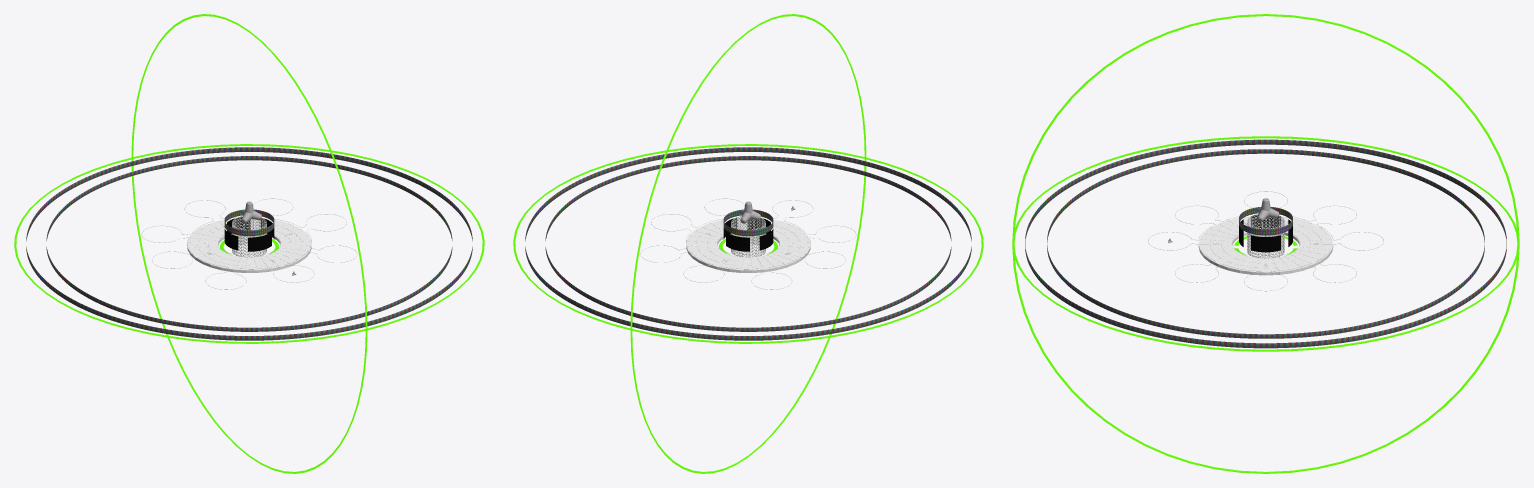
3 views of the same model, side by side, from view 1: azimuth 30°, elevation 25°; view 2: azimuth 150°, elevation 25°; view 3: azimuth 270°, elevation 25° (orthographic). The views are drawn at different scales.
Parts seen in each view (by area): view 1: __MESSAGE_RING_OUTER_2__, __MESSAGE_RING_OUTER_1__, Floor.001, __WORLD_RING_H__, __WORLD_RING_M__, Cylinder.001, Handrail; view 2: __MESSAGE_RING_OUTER_2__, __MESSAGE_RING_OUTER_1__, Floor.001, __WORLD_RING_H__, __WORLD_RING_M__, Cylinder.001, Handrail; view 3: __MESSAGE_RING_OUTER_2__, __MESSAGE_RING_OUTER_1__, Floor.001, __WORLD_RING_M__, __WORLD_RING_H__, Cylinder.001, Handrail.
Part boxes in pixels (<box>): __MESSAGE_RING_OUTER_2__: <box>26,147,472,340</box>; __MESSAGE_RING_OUTER_1__: <box>46,156,452,331</box>; Floor.001: <box>187,218,311,272</box>; __WORLD_RING_H__: <box>14,144,484,343</box>; __WORLD_RING_M__: <box>131,14,367,473</box>; Cylinder.001: <box>232,216,266,257</box>; Handrail: <box>141,198,357,289</box>; __MESSAGE_RING_OUTER_2__: <box>525,147,971,340</box>; __MESSAGE_RING_OUTER_1__: <box>545,156,951,331</box>; Floor.001: <box>686,218,810,272</box>; __WORLD_RING_H__: <box>513,144,983,343</box>; __WORLD_RING_M__: <box>630,14,866,473</box>; Cylinder.001: <box>731,216,765,257</box>; Handrail: <box>640,198,856,289</box>; __MESSAGE_RING_OUTER_2__: <box>1025,139,1506,348</box>; __MESSAGE_RING_OUTER_1__: <box>1047,149,1484,338</box>; Floor.001: <box>1198,216,1333,275</box>; __WORLD_RING_M__: <box>1012,14,1519,473</box>; __WORLD_RING_H__: <box>1012,136,1519,351</box>; Cylinder.001: <box>1247,213,1284,258</box>; Handrail: <box>1148,191,1383,291</box>.
Size of what is drawn, in the model's own units: 301 by 301 by 301.
Materials: 7 (1 with a texture image).
